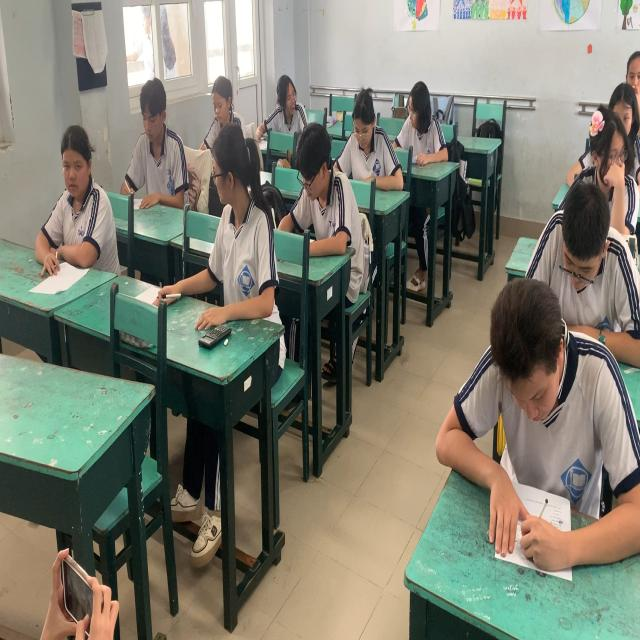cheating: (201, 124, 290, 372), (575, 120, 634, 202), (259, 75, 304, 144)
not_cheating: (438, 280, 622, 594), (127, 68, 198, 210), (49, 120, 119, 255), (544, 200, 620, 303), (280, 134, 342, 251), (338, 89, 404, 195), (396, 68, 449, 176), (200, 75, 233, 134)
